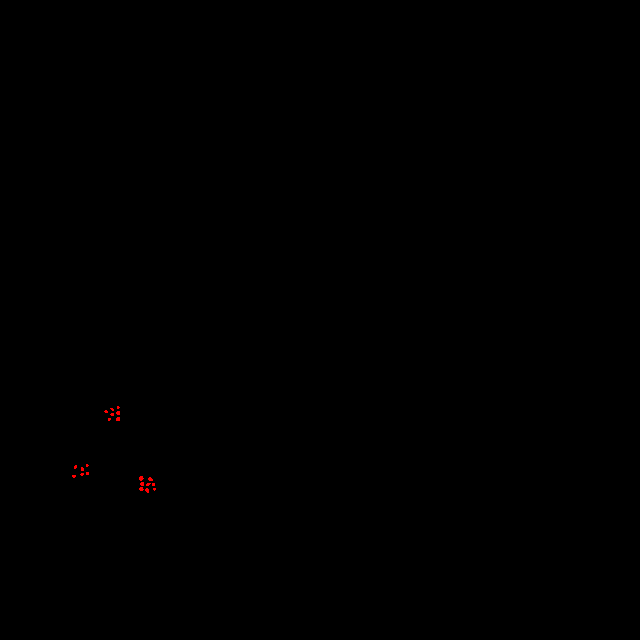Target: (139, 476, 144, 481), (148, 477, 153, 481), (139, 487, 144, 491), (145, 488, 149, 493), (116, 411, 120, 415), (116, 417, 120, 421), (140, 482, 144, 486), (146, 483, 151, 486), (110, 408, 114, 411), (104, 410, 108, 413), (110, 413, 114, 416), (74, 465, 77, 469), (81, 467, 84, 471), (80, 473, 84, 476), (72, 475, 76, 478), (117, 406, 120, 409), (108, 418, 111, 421), (86, 464, 89, 467), (86, 472, 89, 475), (152, 483, 155, 486), (153, 488, 156, 491)
